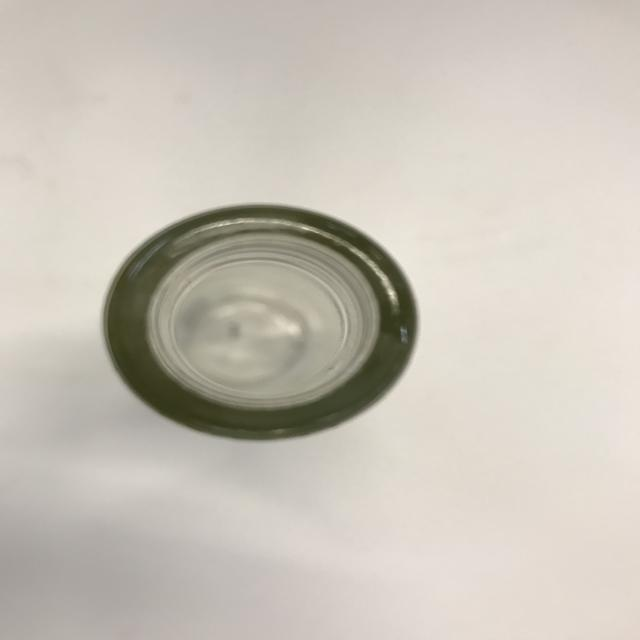glass: (85, 197, 428, 444)
